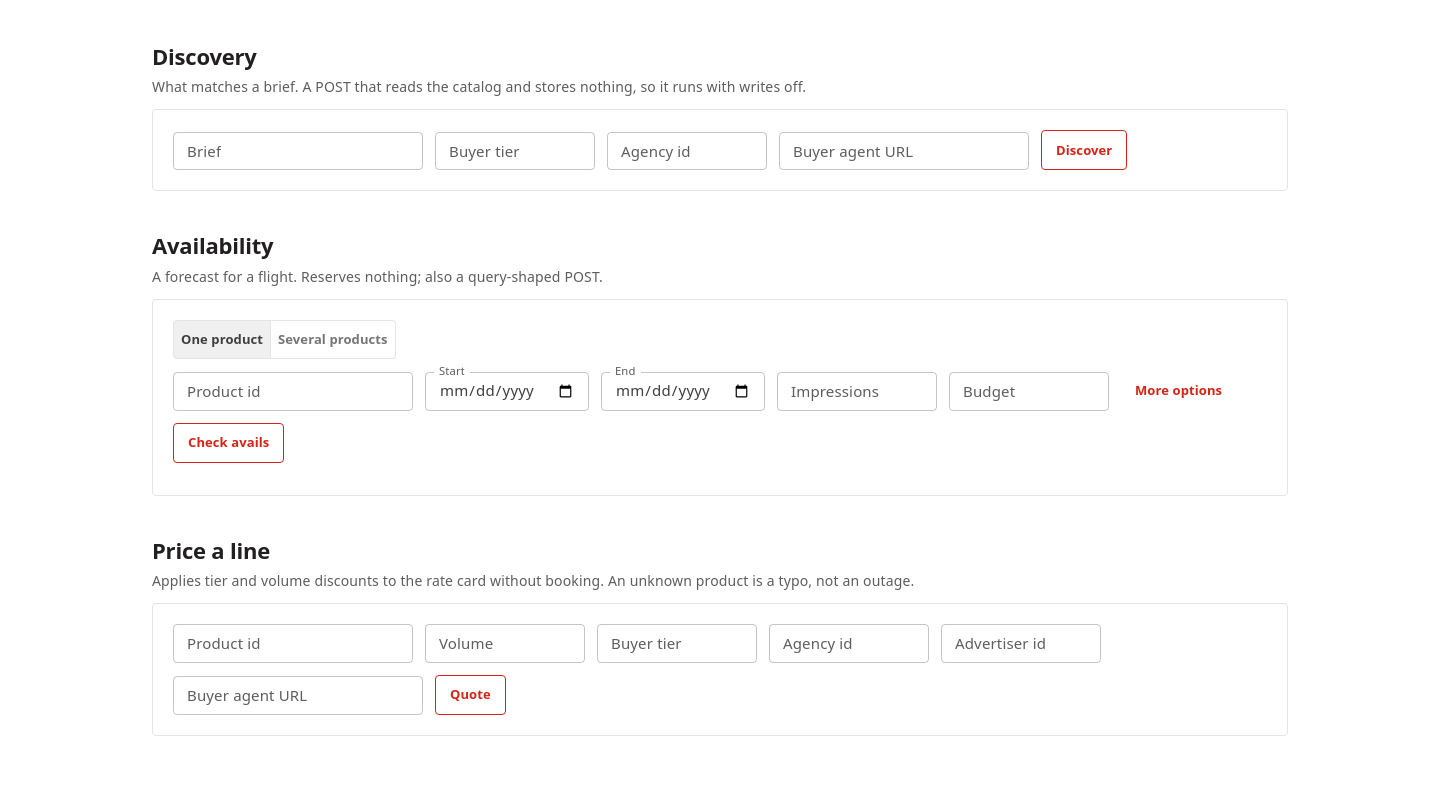
the catalog screen › says an unknown product is a typo, not an outage
(page scrolled)
In the dropdown labelled "Product id" in the row of "Advertiser id": {"x": 292, "y": 643} [179, 630, 404, 657], type "no-such"
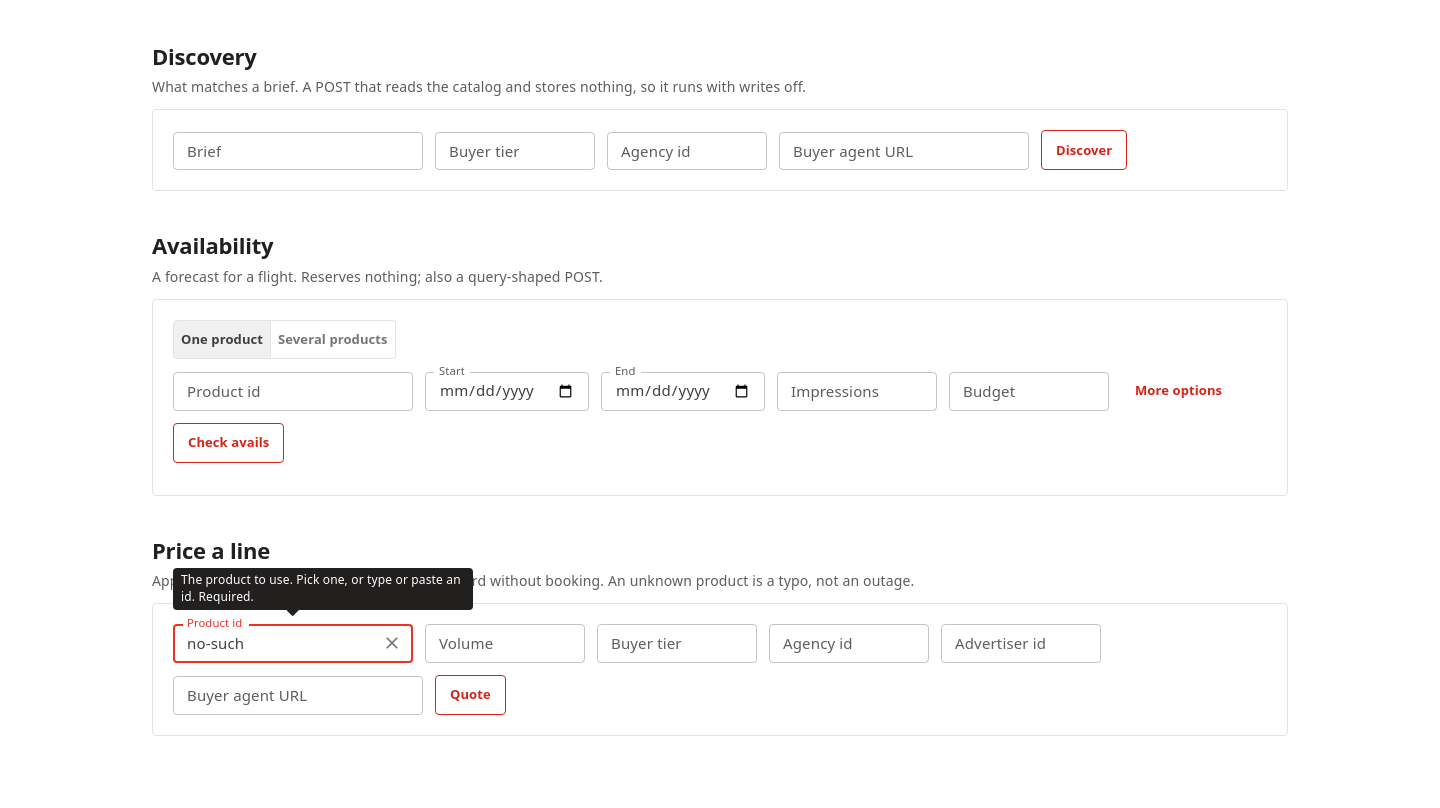
Click the button "Quote": {"x": 470, "y": 695} [435, 675, 506, 715]
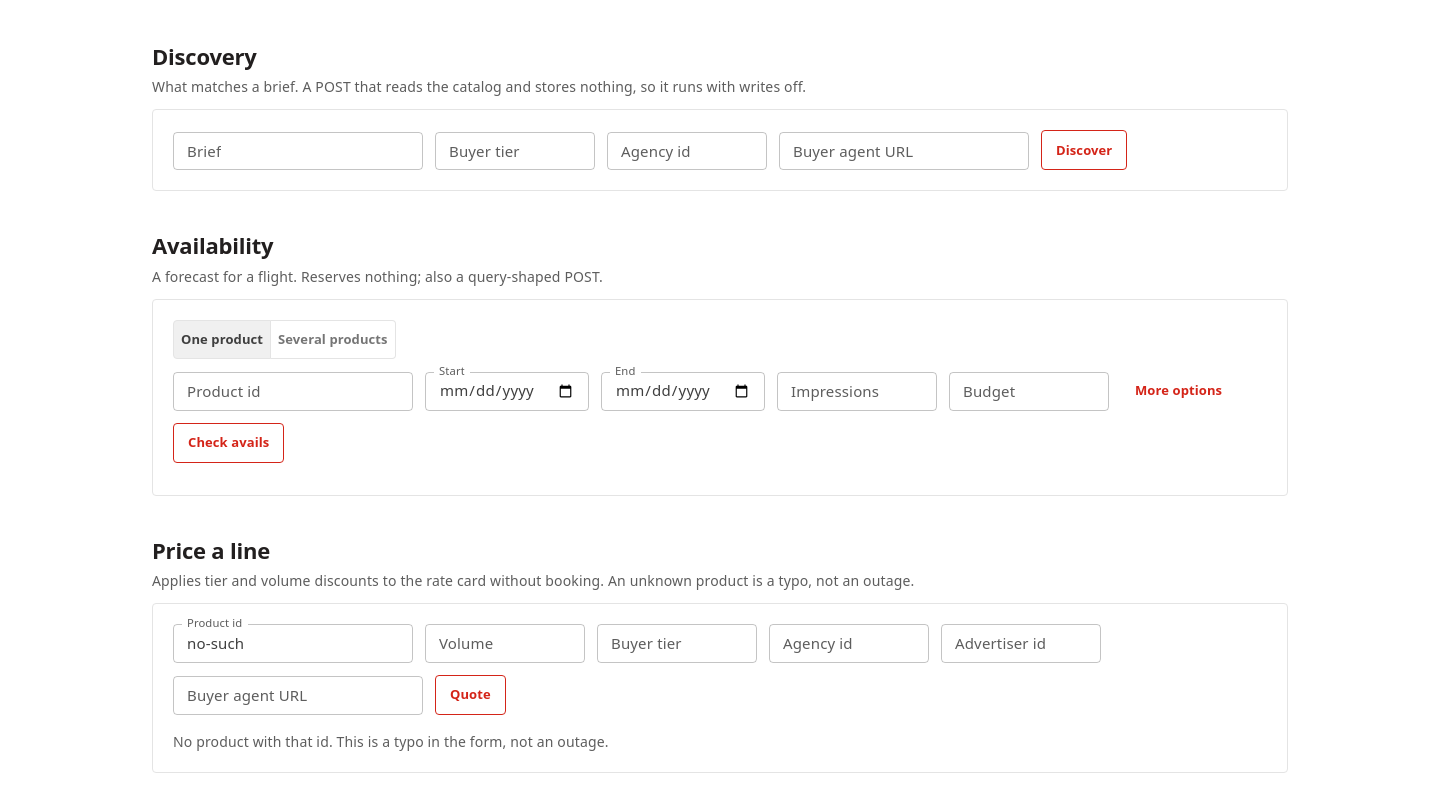
Expected: the text "typo" is shown, [173, 732, 609, 751]
